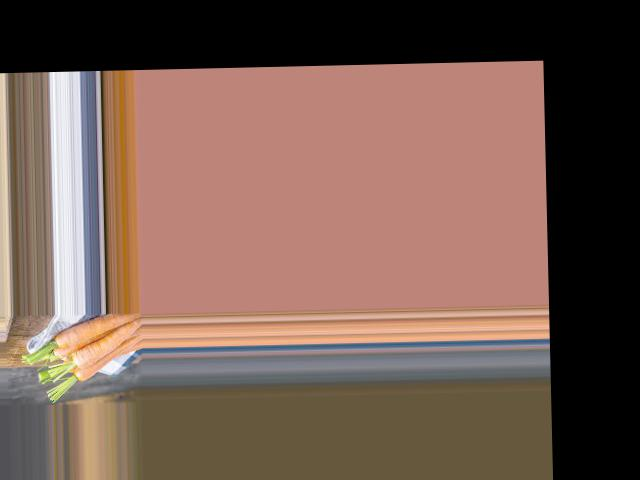carrot: (43, 312, 142, 348)
